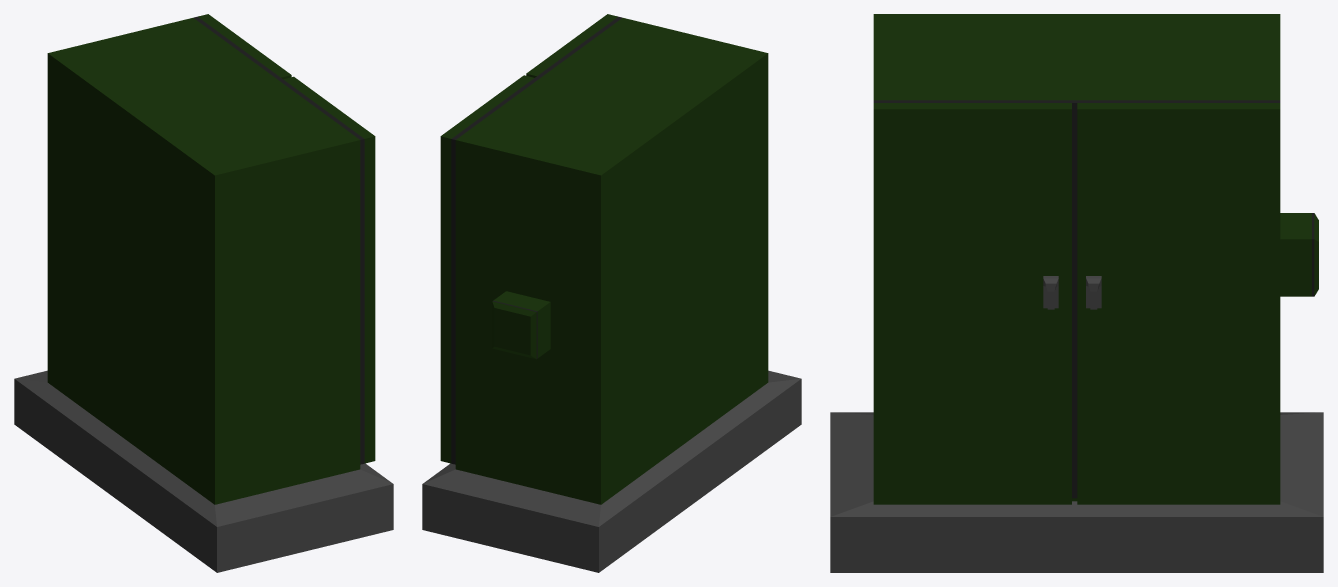
Rendered from ElectricalUtilityBox1.fbx.
3 views of the same model, side by side, from view 1: azimuth 30°, elevation 25°; view 2: azimuth 150°, elevation 25°; view 3: azimuth 270°, elevation 25° (orthographic). The views are drawn at different scales.
Visible parts, largest first — view 1: UtilityBox1; view 2: UtilityBox1; view 3: UtilityBox1.
Part boxes in pixels (x1=…): UtilityBox1: x1=14, y1=14, x2=393, y2=572; UtilityBox1: x1=422, y1=14, x2=801, y2=572; UtilityBox1: x1=830, y1=14, x2=1323, y2=572.
Size of the model in its own units: 322 by 627 by 605.
